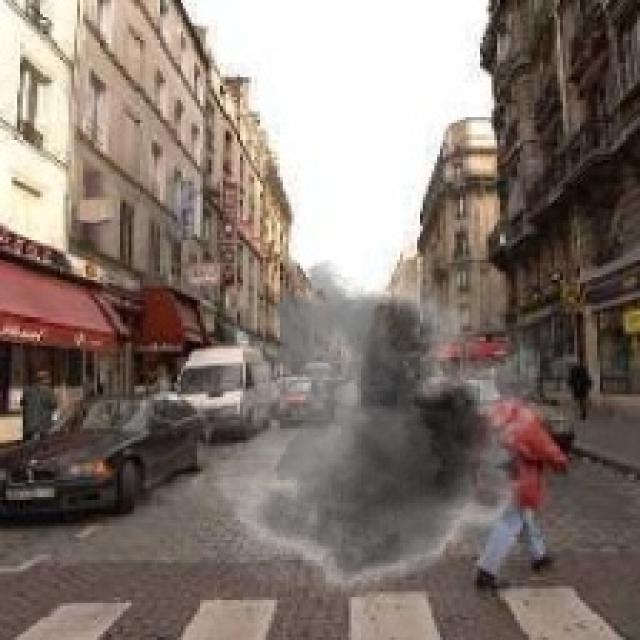smoke: (171, 260, 560, 611)
